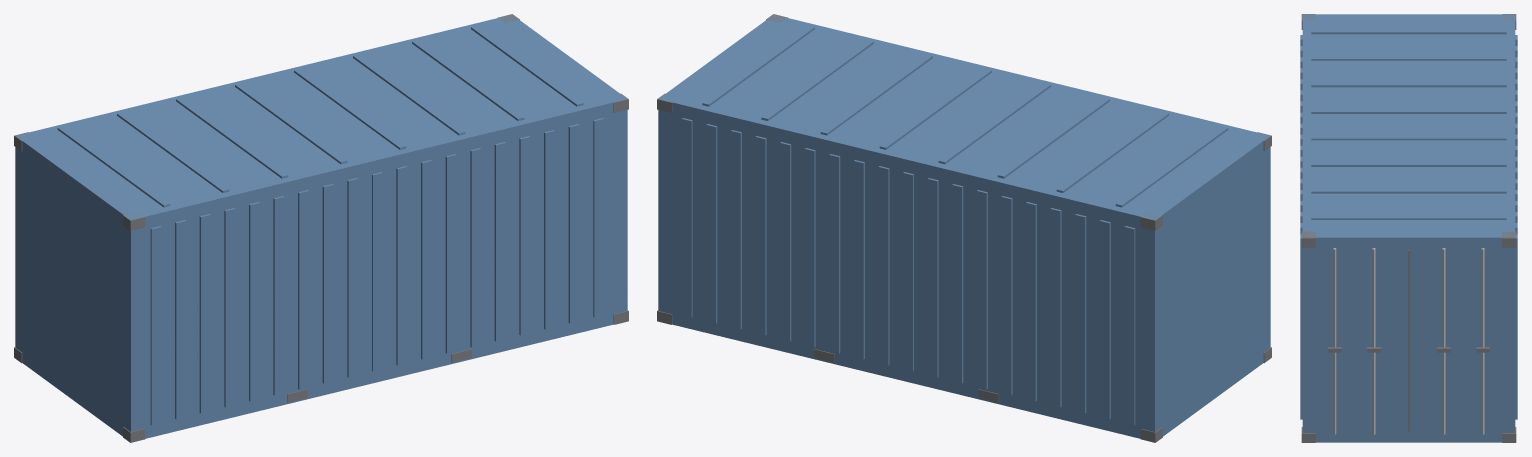
File: container_blue.glb
3 views of the same model, side by side, from view 1: azimuth 30°, elevation 25°; view 2: azimuth 150°, elevation 25°; view 3: azimuth 270°, elevation 25° (orthographic). The views are drawn at different scales.
Visible parts, largest first — view 1: body; view 2: body; view 3: body.
Boxes of the visible parts, x1,y1,x2,y2 form: body: (14, 14, 628, 442); body: (657, 14, 1271, 442); body: (1300, 14, 1517, 442).
Size of the model in its own units: 6.15 by 2.61 by 2.49.
